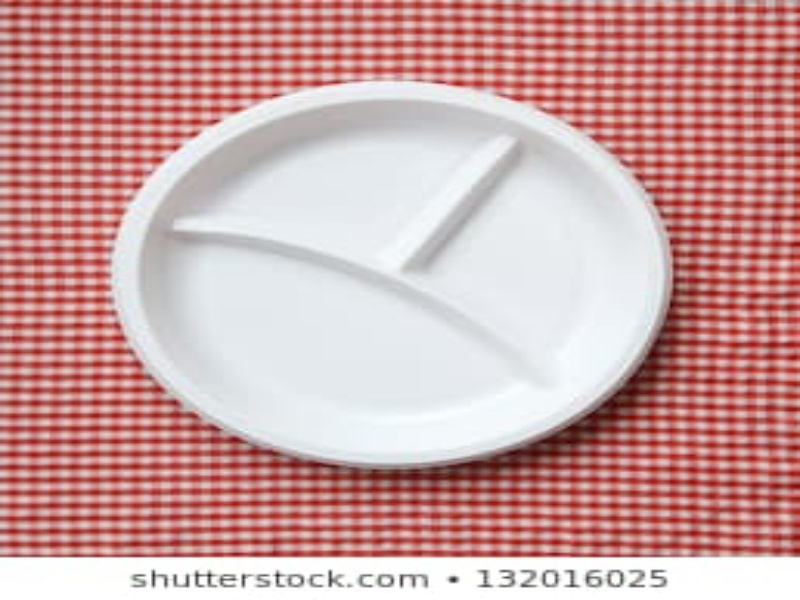plastic-plate: (111, 80, 673, 474)
